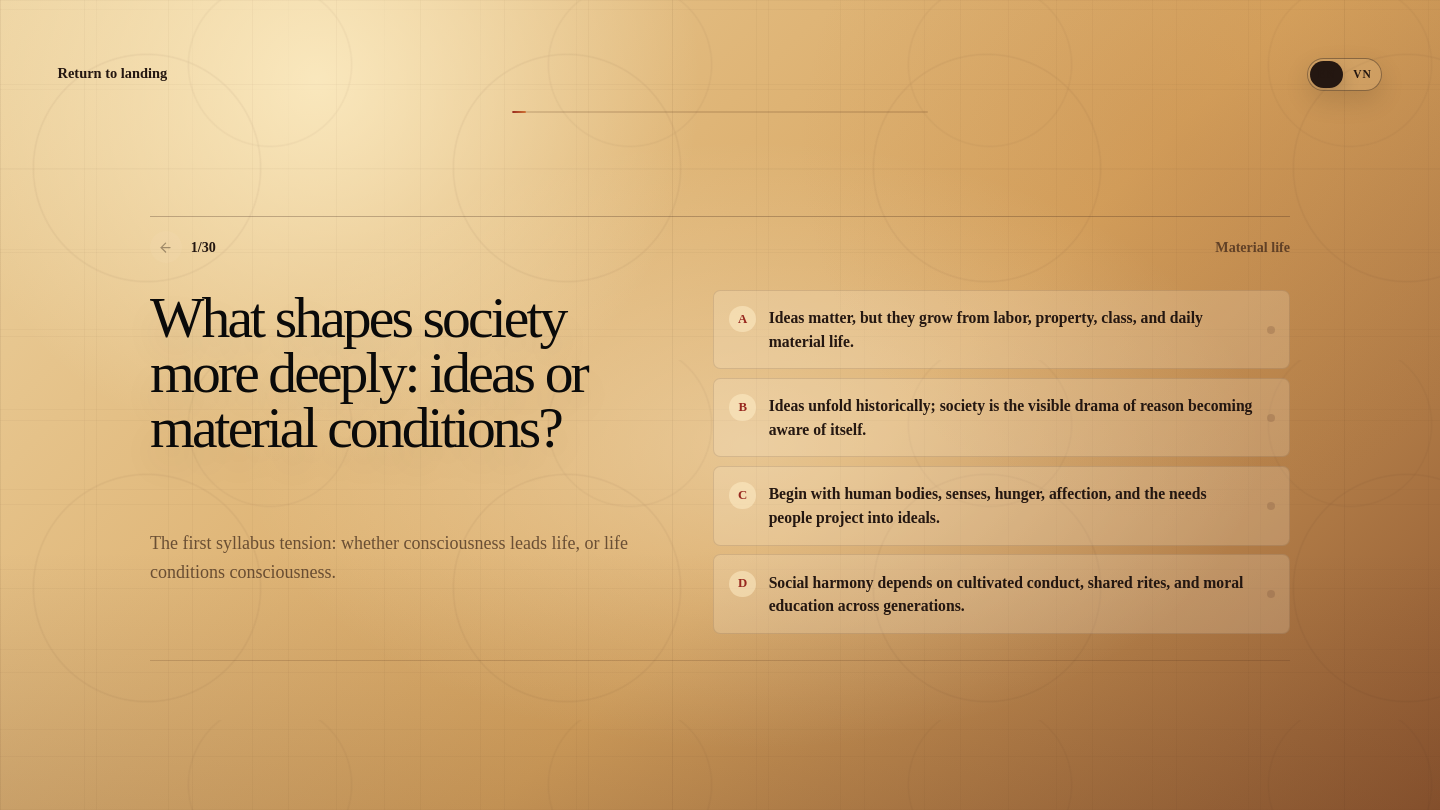
Test: QuizClient › starts the same delayed advance from a pointer press
The image size is (1440, 810).
Press the mouse on the 1st radio button at (986, 317), box [713,290,1290,369]
Wait 450 ms
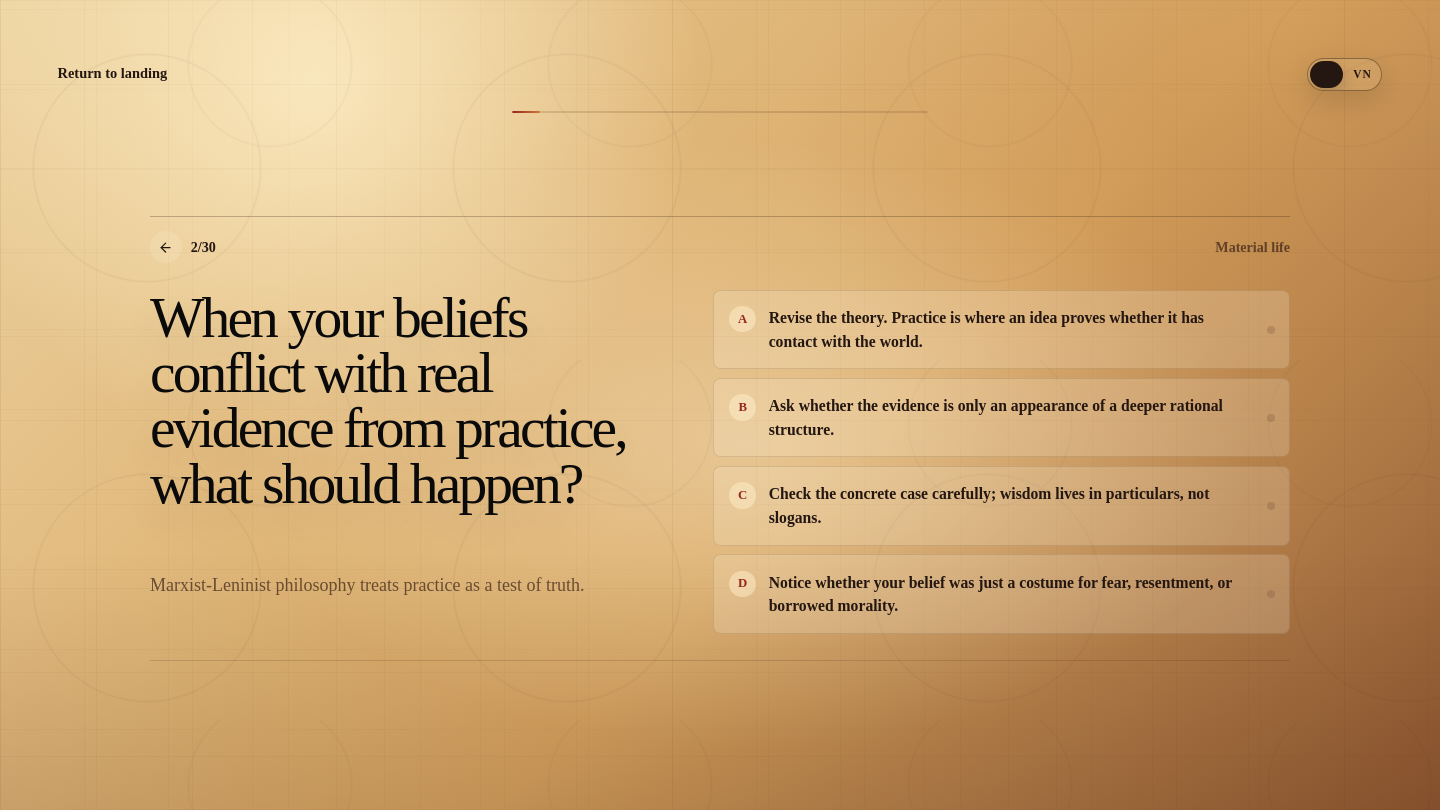
Expected: the heading "When your beliefs conflict with real evidence from practice, what should happen?" is shown, [150,290,640,511]
